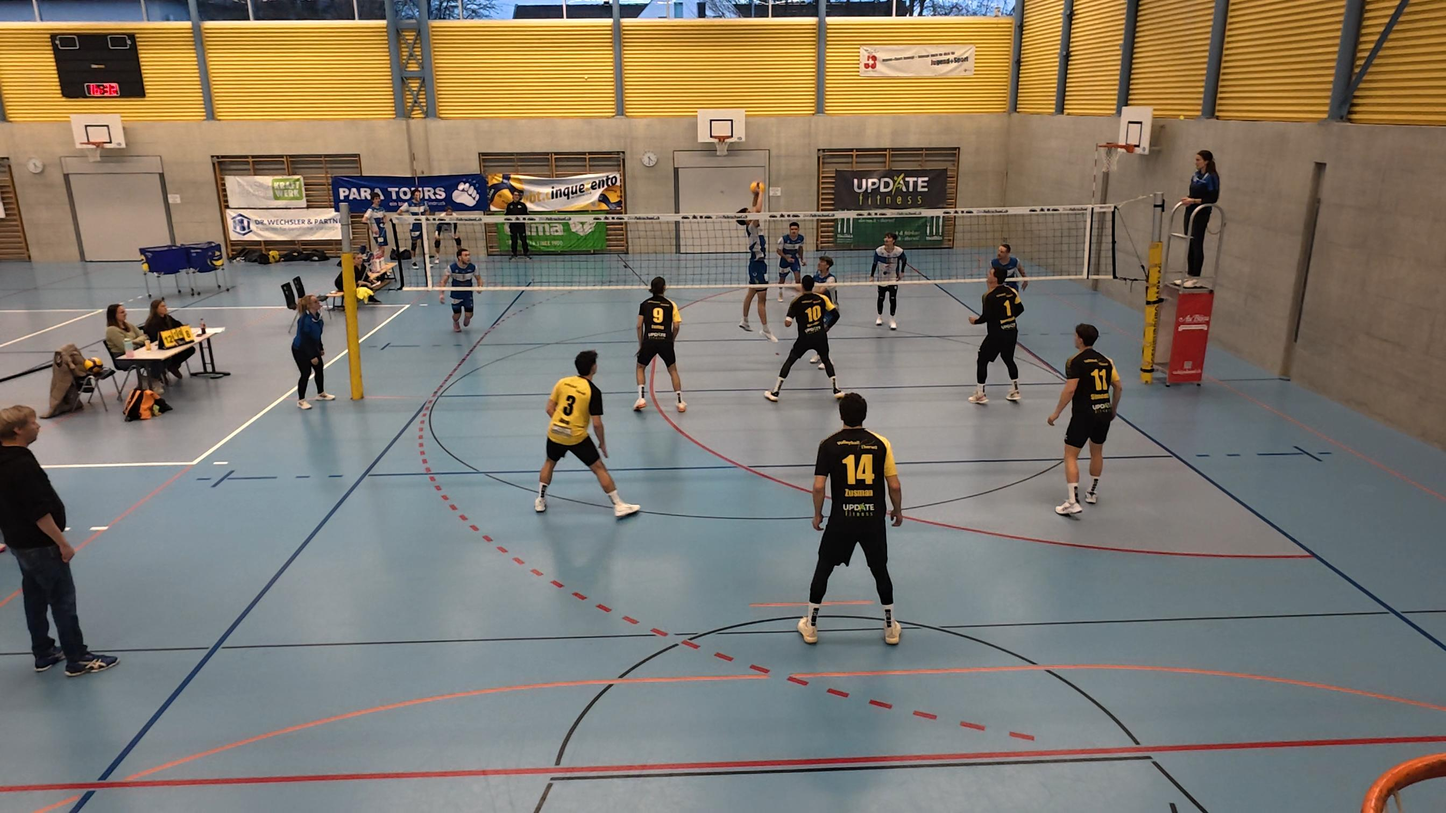alzata: (736, 177, 779, 346)
